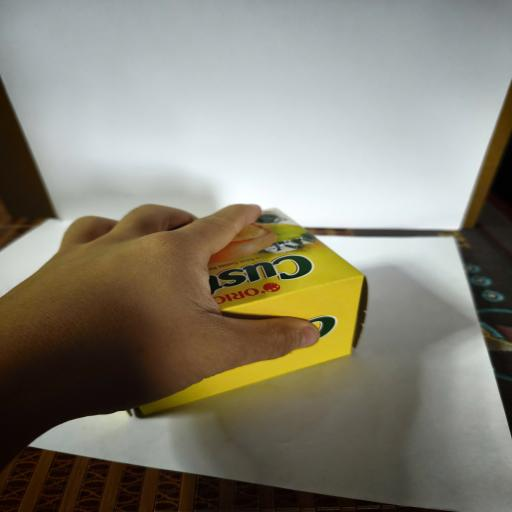custas: (130, 207, 368, 418)
